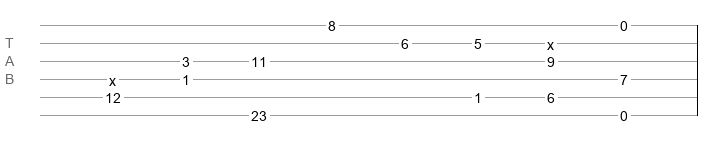0: (620, 18, 628, 28), (620, 108, 628, 118)
1: (182, 72, 190, 82), (474, 90, 482, 100)
11: (251, 54, 267, 64)
12: (105, 90, 121, 100)
23: (251, 108, 267, 118)
3: (182, 54, 190, 64)
5: (474, 36, 482, 46)
6: (401, 36, 409, 46), (547, 90, 555, 100)
7: (620, 72, 628, 82)
8: (328, 18, 336, 28)
9: (547, 54, 555, 64)
x: (109, 73, 116, 81), (547, 37, 554, 45)
